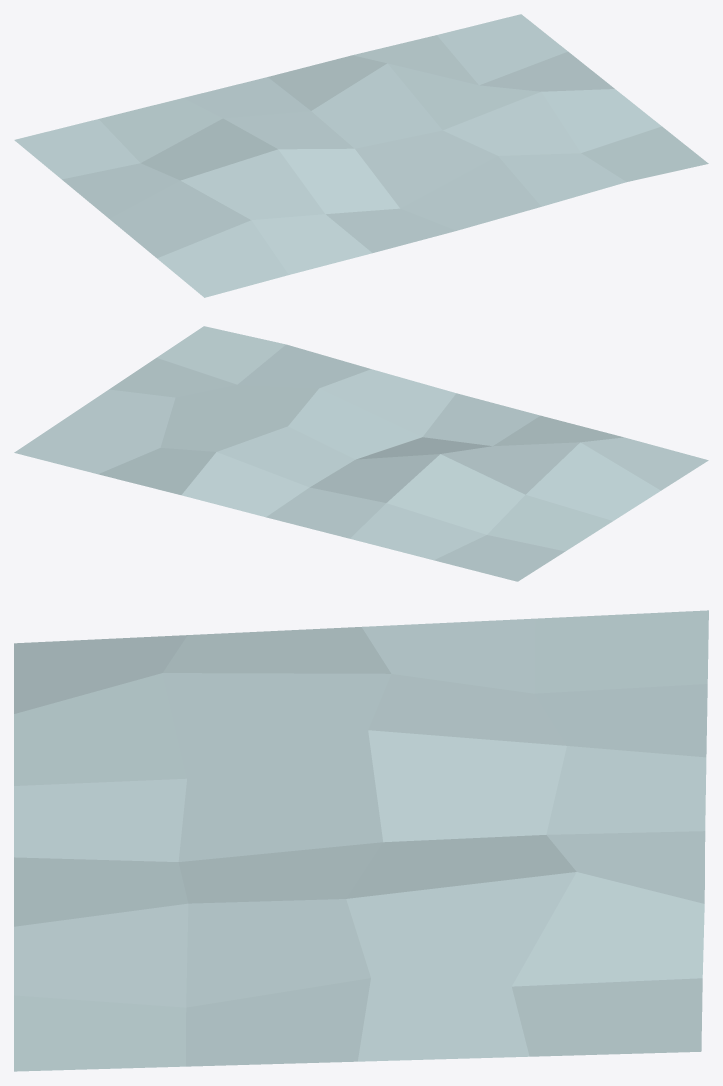
File: IceInIceBox.fbx
The picture shows the model from 3 angles, top to bottom: view 1: azimuth 30°, elevation 25°; view 2: azimuth 150°, elevation 25°; view 3: azimuth 270°, elevation 25°; orthographic projection. The views are drawn at different scales.
Visible parts, largest first — view 1: IceInIceBox_Geo; view 2: IceInIceBox_Geo; view 3: IceInIceBox_Geo.
Boxes of the visible parts, x1=… form: IceInIceBox_Geo: x1=14, y1=14, x2=708, y2=297; IceInIceBox_Geo: x1=14, y1=326, x2=708, y2=581; IceInIceBox_Geo: x1=14, y1=610, x2=708, y2=1071.
Size of the model in its own units: 633 by 49.92 by 414.
